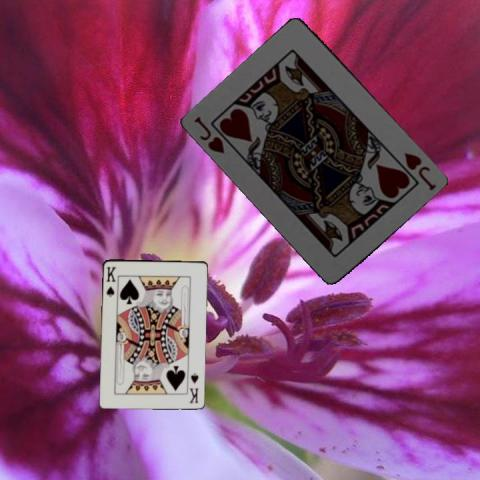Jh: (401, 149, 438, 192), (191, 113, 227, 156)
Ks: (103, 263, 117, 298), (186, 369, 199, 405)
